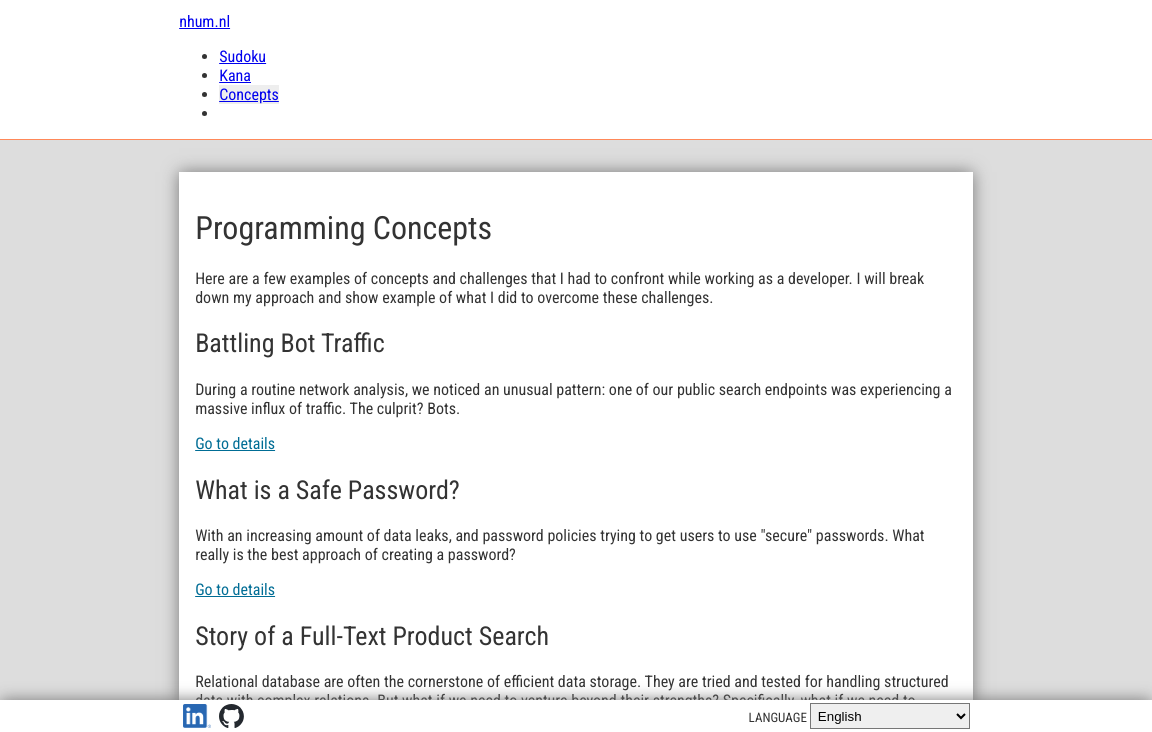
Test case: Clicking 'Go to detail' for 'Password' navigates to the correct sub page
Click the link to "/concepts/password": (235, 590) [195,580,275,599]
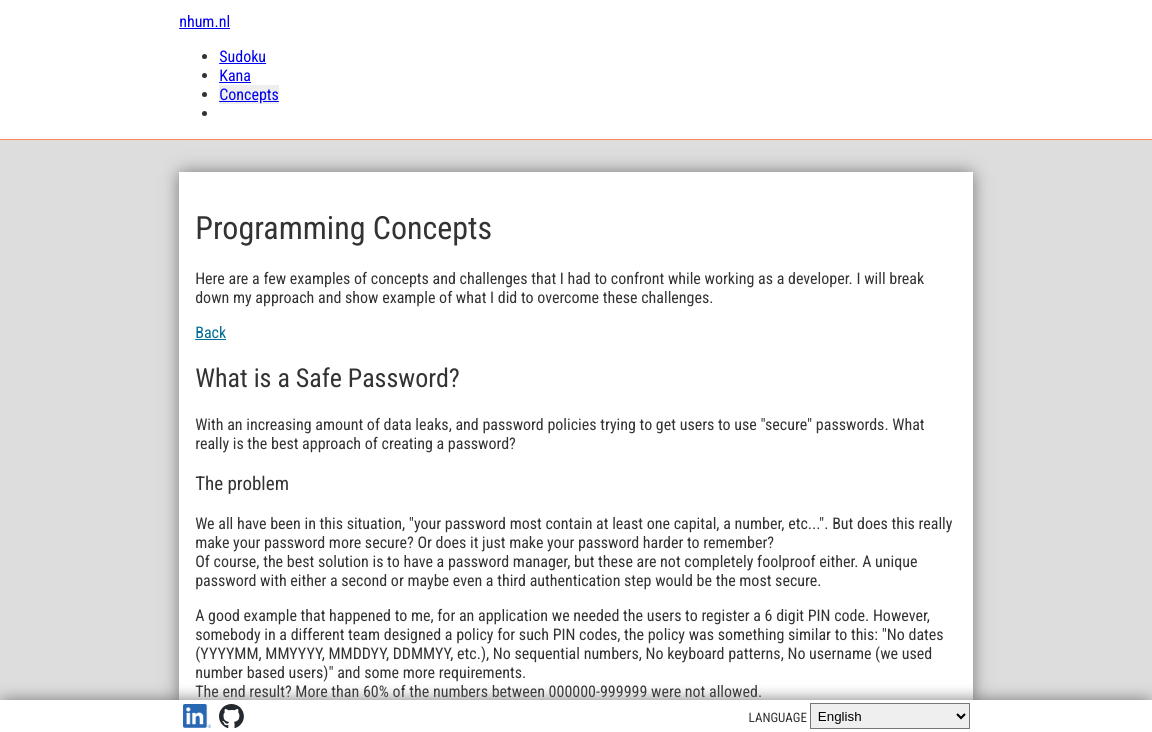
Check: the heading "The problem" is shown, box [195,472,289,495]
